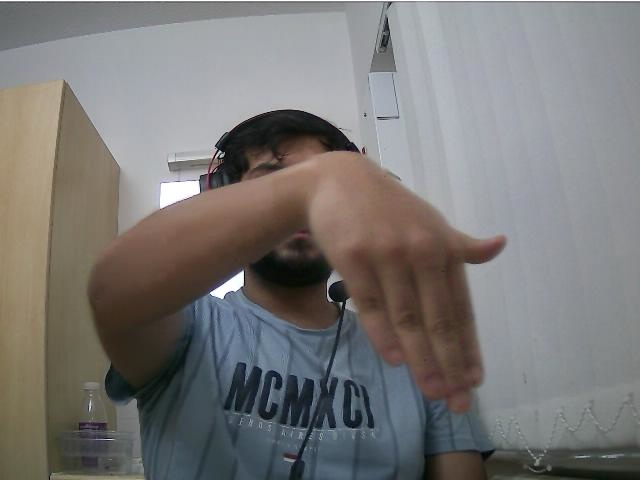down: (322, 146, 488, 412)
